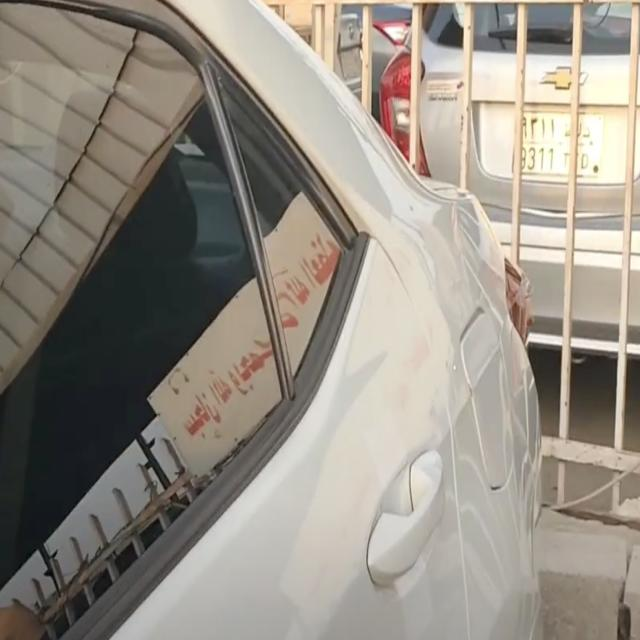license_plate: (508, 108, 608, 178)
